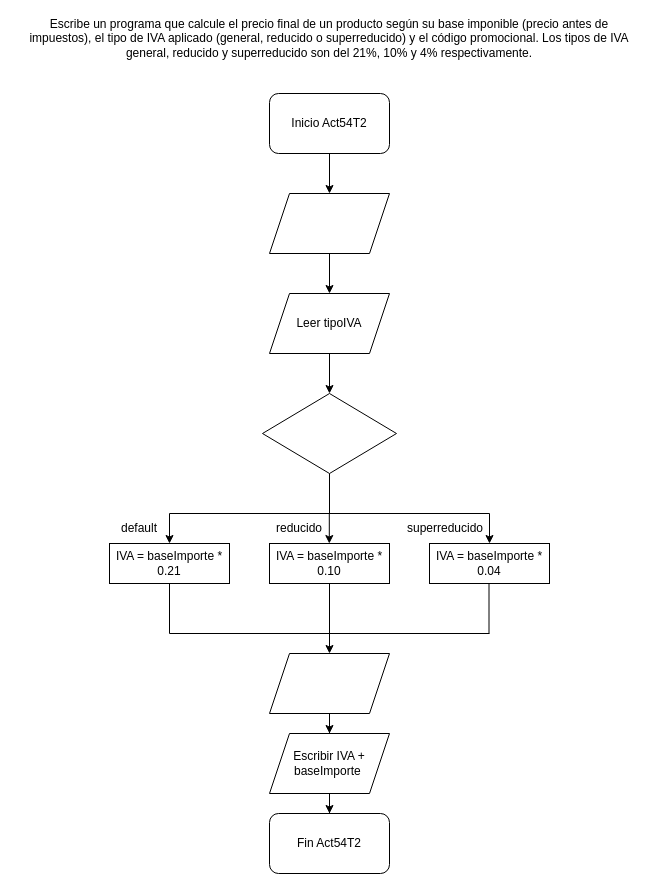
The diagram is 658 pixels wide and 891 high, and some of its shapes have lost their labels. The shapes that lost their labels are listed below. From the top down, each one's box as (x1, y1, x2, y2) in pixels, then its label:
(268, 192, 390, 254): Leer baseImporte
(262, 392, 396, 474): tipoIVA
(268, 652, 390, 714): Escribir IVA
